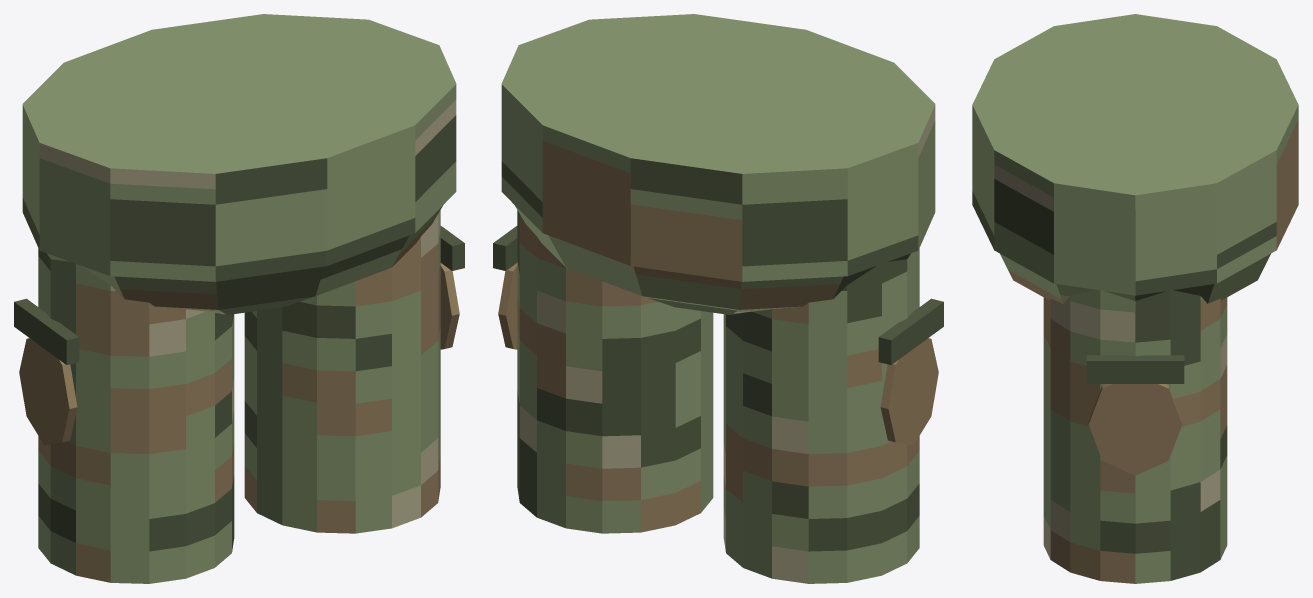
File: pants_camo.glb
3 renders of one model, left to right at view 1: azimuth 30°, elevation 25°; view 2: azimuth 150°, elevation 25°; view 3: azimuth 270°, elevation 25°, orthographic. The views are drawn at different scales.
Parts seen in each view (by area): view 1: Torso, LegL, LegR; view 2: Torso, LegL, LegR; view 3: Torso, LegR.
Part boxes in pixels (x1,y1,x2,y2): Torso: (22, 14, 456, 314); LegL: (14, 248, 234, 583); LegR: (244, 210, 464, 533); Torso: (501, 14, 935, 314); LegL: (723, 248, 943, 583); LegR: (493, 210, 713, 533); Torso: (972, 14, 1298, 303); LegR: (1043, 290, 1227, 583).
Size of the model in its own units: 0.504 by 0.51 by 0.383.
